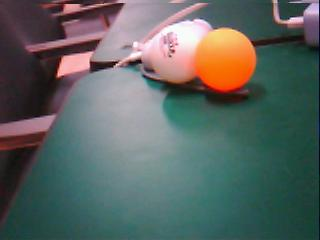oball: (194, 28, 257, 91)
